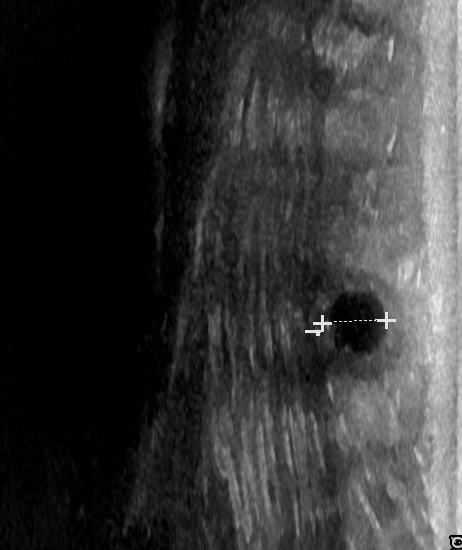Benign: (319, 282, 395, 357)
